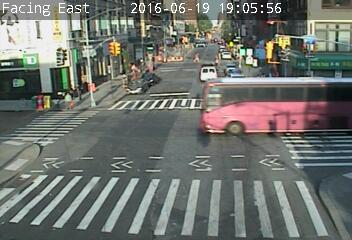neg: (32, 183, 65, 227), (132, 173, 163, 214), (308, 108, 337, 147), (97, 107, 124, 144), (102, 152, 124, 182), (193, 166, 214, 194), (29, 88, 49, 115), (97, 67, 117, 94), (270, 102, 290, 128), (255, 151, 275, 177), (18, 147, 35, 171), (86, 66, 102, 87), (221, 102, 236, 122), (195, 88, 209, 106)
pos: (58, 91, 74, 112), (72, 81, 88, 102), (212, 54, 222, 68), (193, 50, 202, 63)
